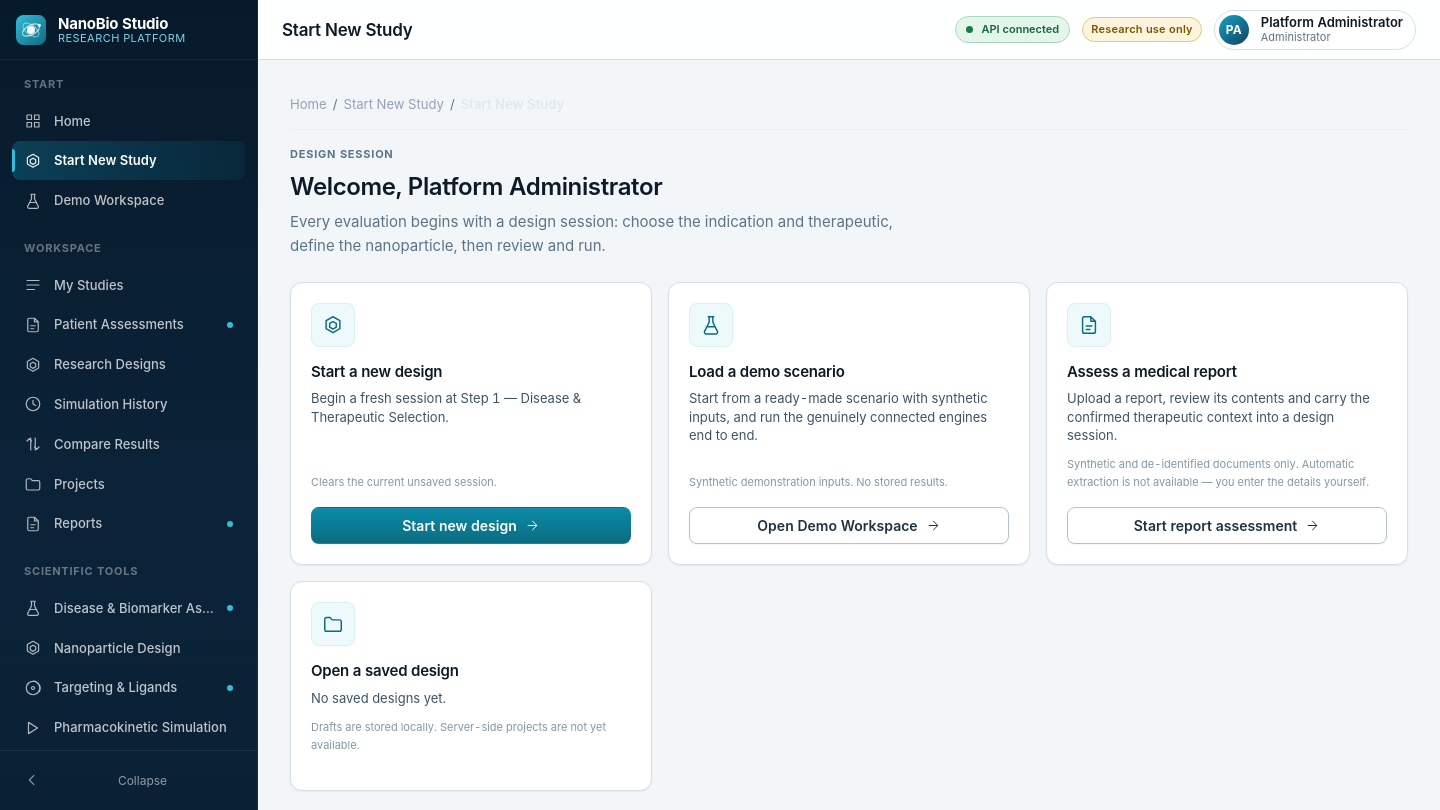
Test case: workflow sequence and gating › starts at Step 1 — Disease & Therapeutic Selection
Click the button with test id "start-new".
click(471, 526)  # box [311,507,631,544]
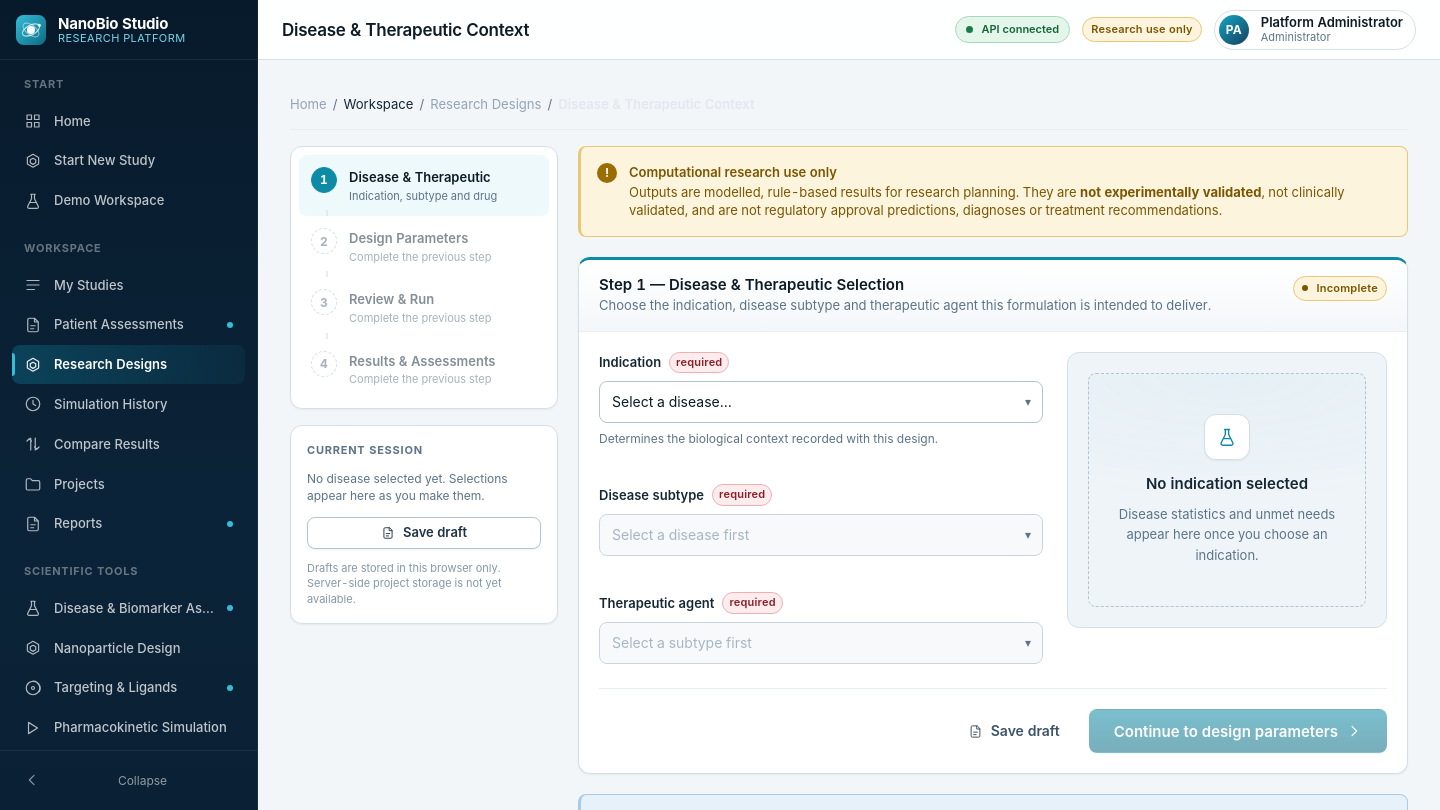
Expected: the heading "Step 1 — Disease & Therapeutic Selection" is shown, [599,275,904,294]
